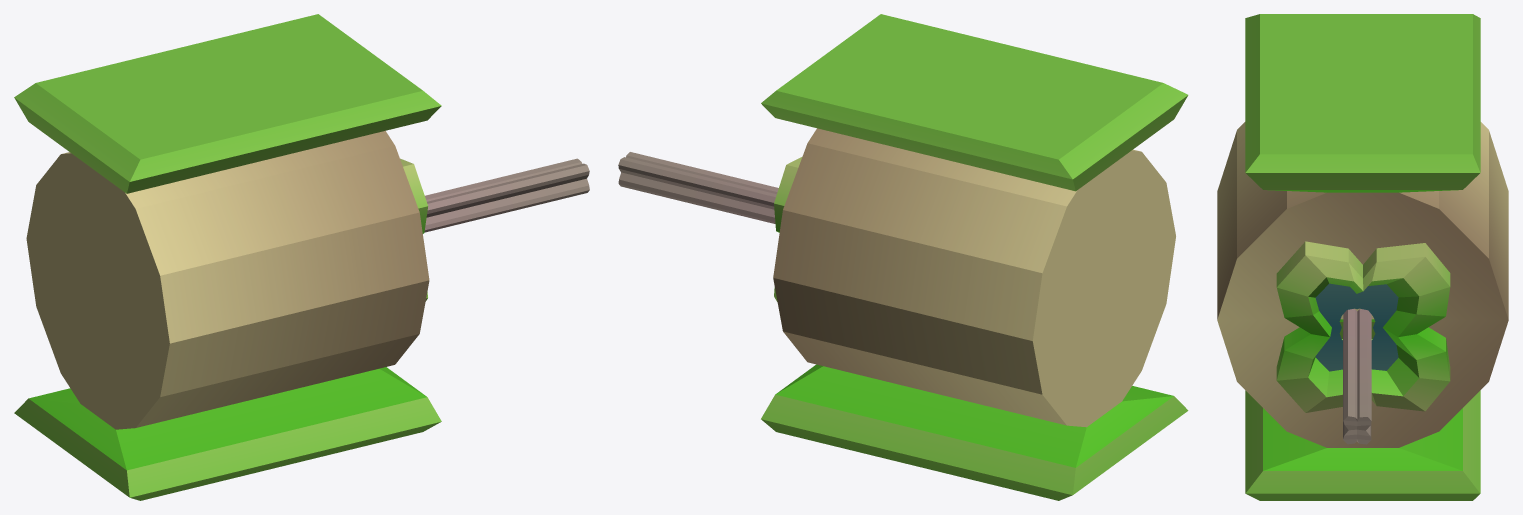
Rendered from o_rotational.fbx.
3 renders of one model, left to right at view 1: azimuth 30°, elevation 25°; view 2: azimuth 150°, elevation 25°; view 3: azimuth 270°, elevation 25°, orthographic.
Parts seen in each view (by area): view 1: rotational, rod; view 2: rotational, rod; view 3: rotational, rod.
Boxes of the visible parts, <box> form: rotational: <box>14,14,441,500</box>; rod: <box>424,158,589,232</box>; rotational: <box>761,14,1188,500</box>; rod: <box>618,152,778,223</box>; rotational: <box>1217,14,1508,500</box>; rod: <box>1343,309,1371,444</box>.
Bounding box in the file's own units: 42.64 × 27.37 × 20.85.
